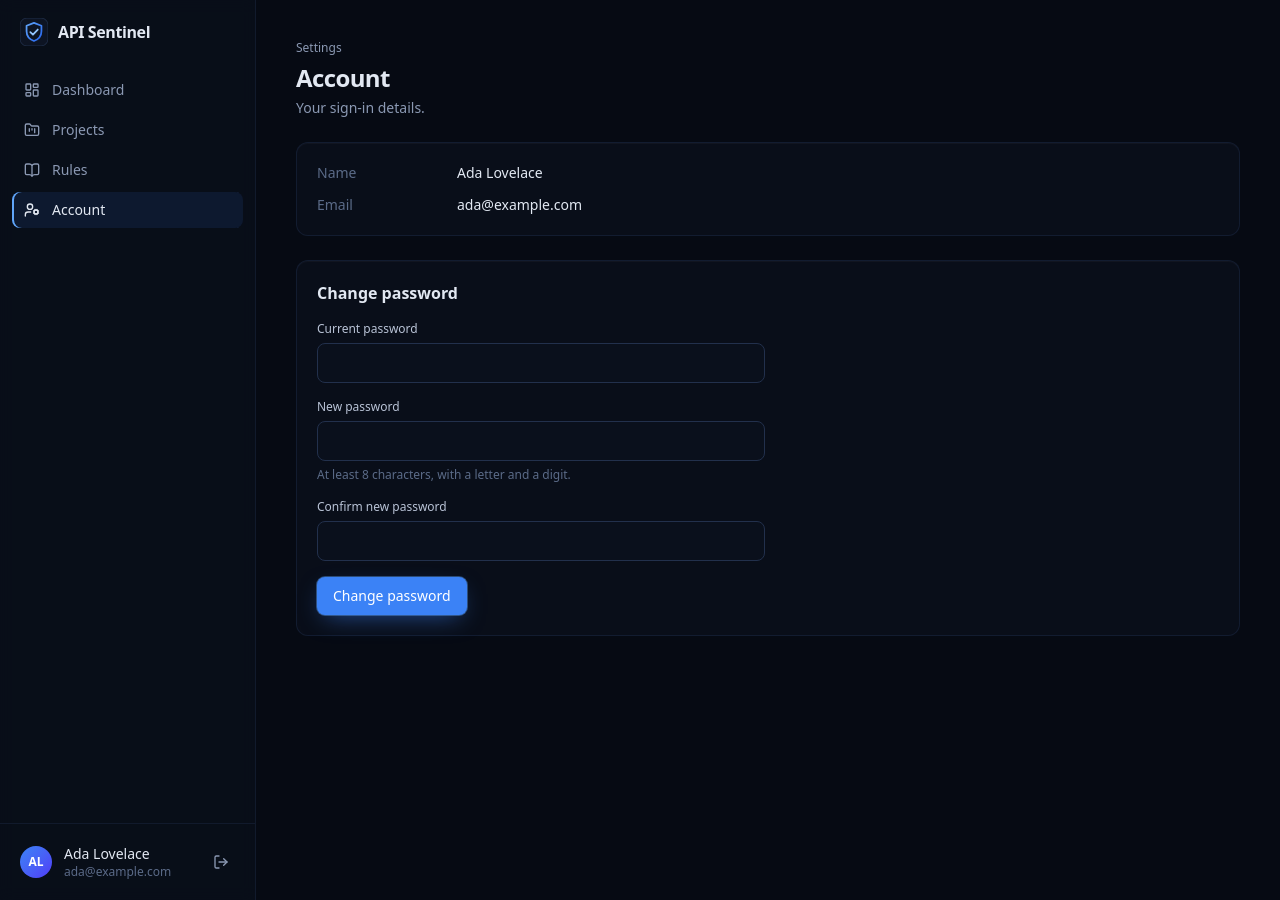
Test: AccountPage › changes the password and clears the form
Expected: the text "ada@example.com" next to "AL" is shown, x1=64 y1=863 x2=171 y2=880
Type "Correct-horse-9" into the password field labelled "Current password".
click(541, 363); type("Correct-horse-9")  # box x1=317 y1=343 x2=765 y2=383
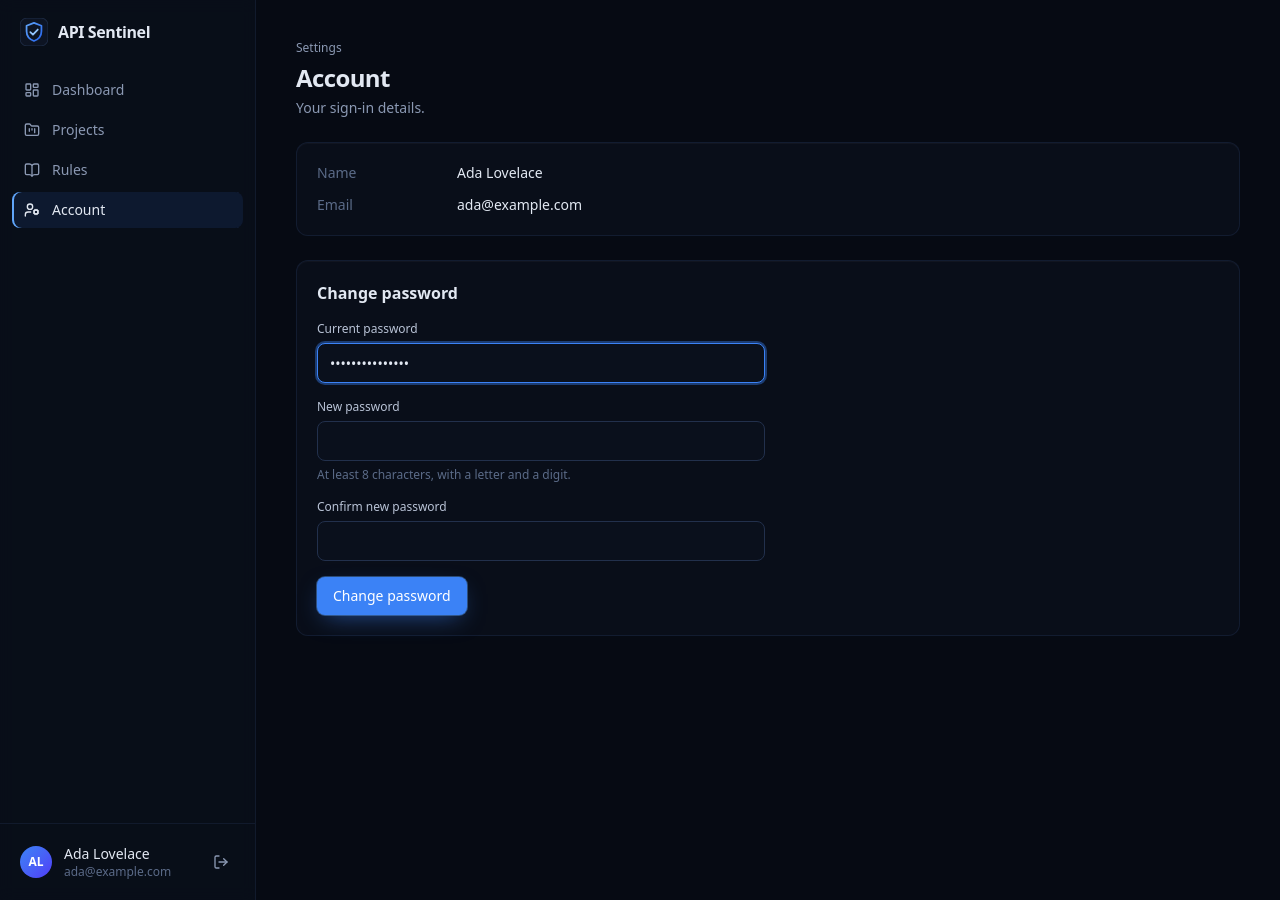
Type "Battery-staple-7" into the password field labelled "New password".
click(541, 441); type("Battery-staple-7")  # box x1=317 y1=421 x2=765 y2=461
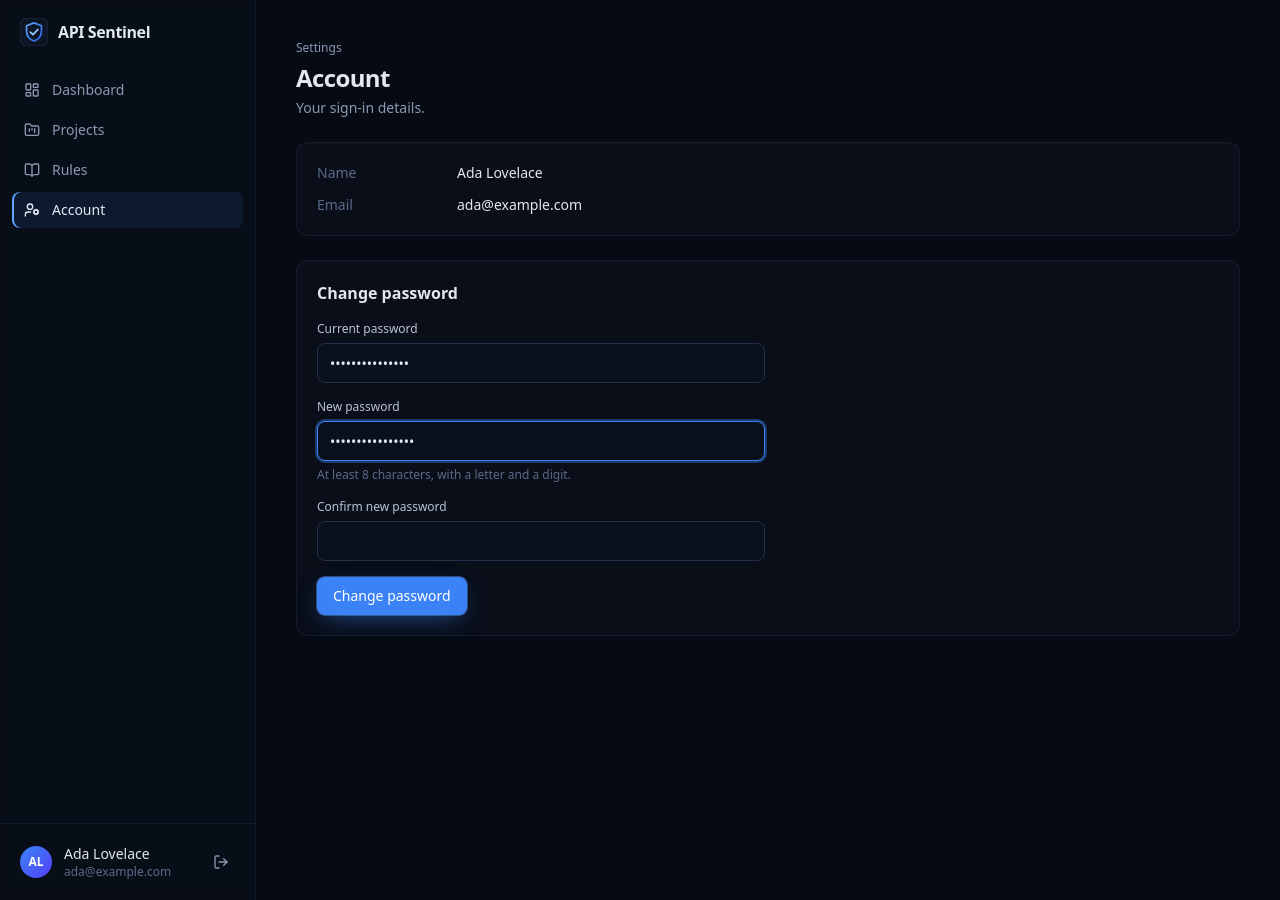
Type "Battery-staple-7" into the password field labelled "Confirm new password".
click(541, 541); type("Battery-staple-7")  # box x1=317 y1=521 x2=765 y2=561
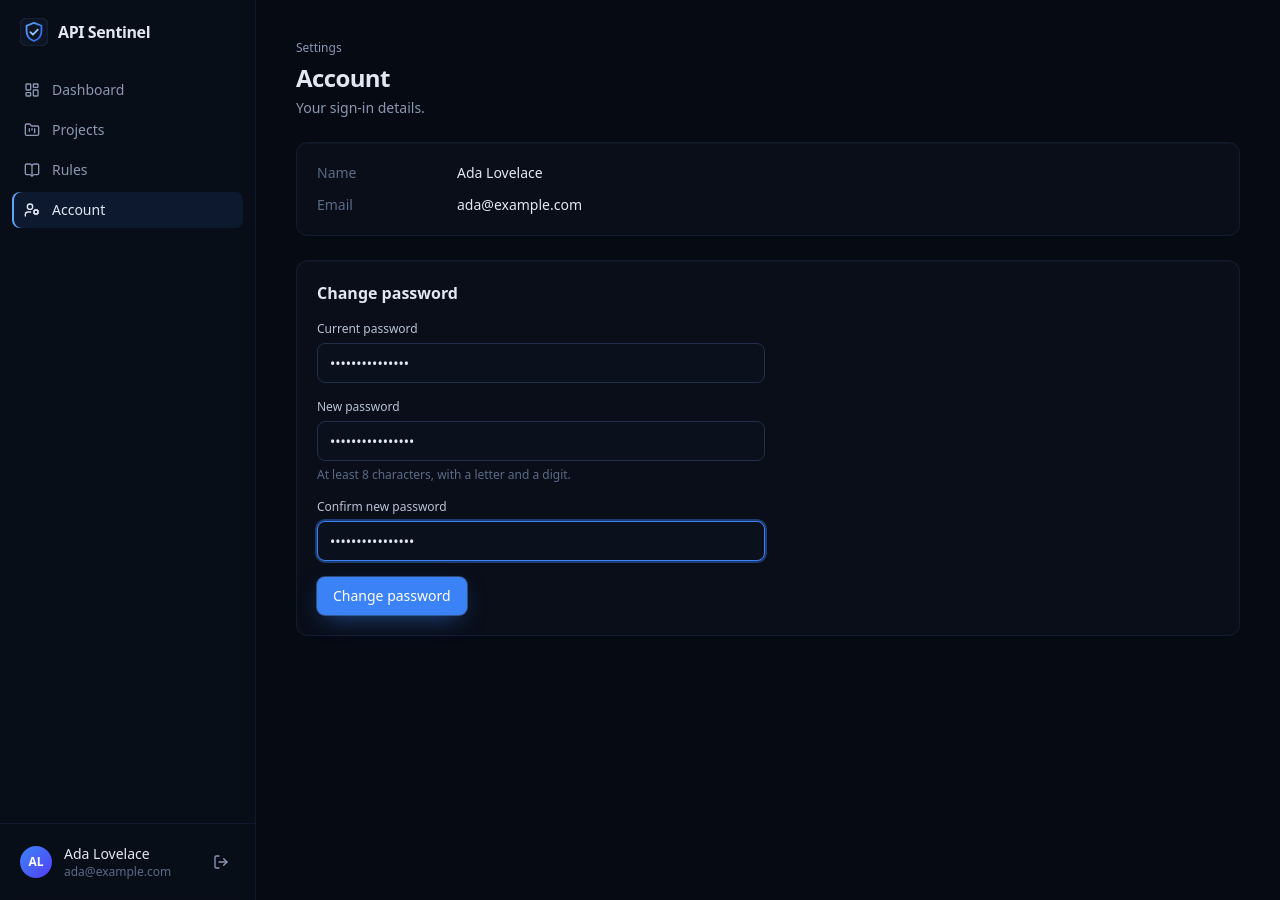
Click the button "Change password".
click(392, 596)  # box x1=317 y1=577 x2=467 y2=615
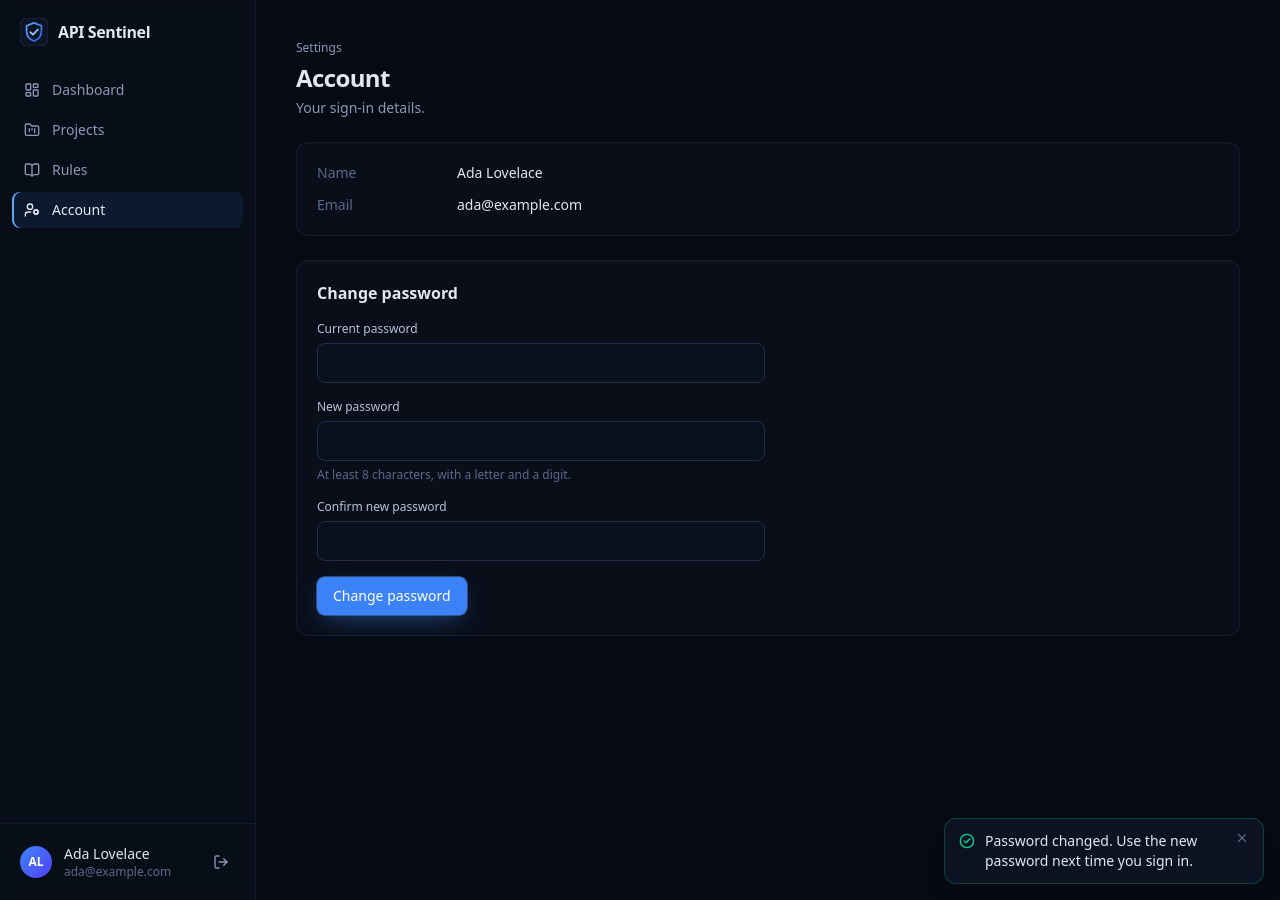
Now the text "Password changed" is shown, box x1=985 y1=831 x2=1197 y2=870
Now the password field labelled "Current password" is empty, box x1=317 y1=343 x2=765 y2=383
